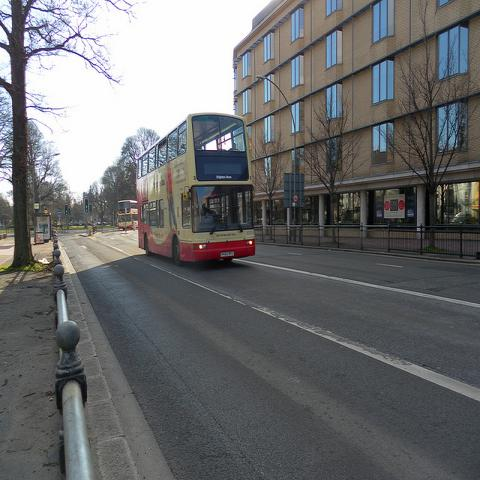bus: (135, 116, 255, 270), (118, 200, 138, 231)
